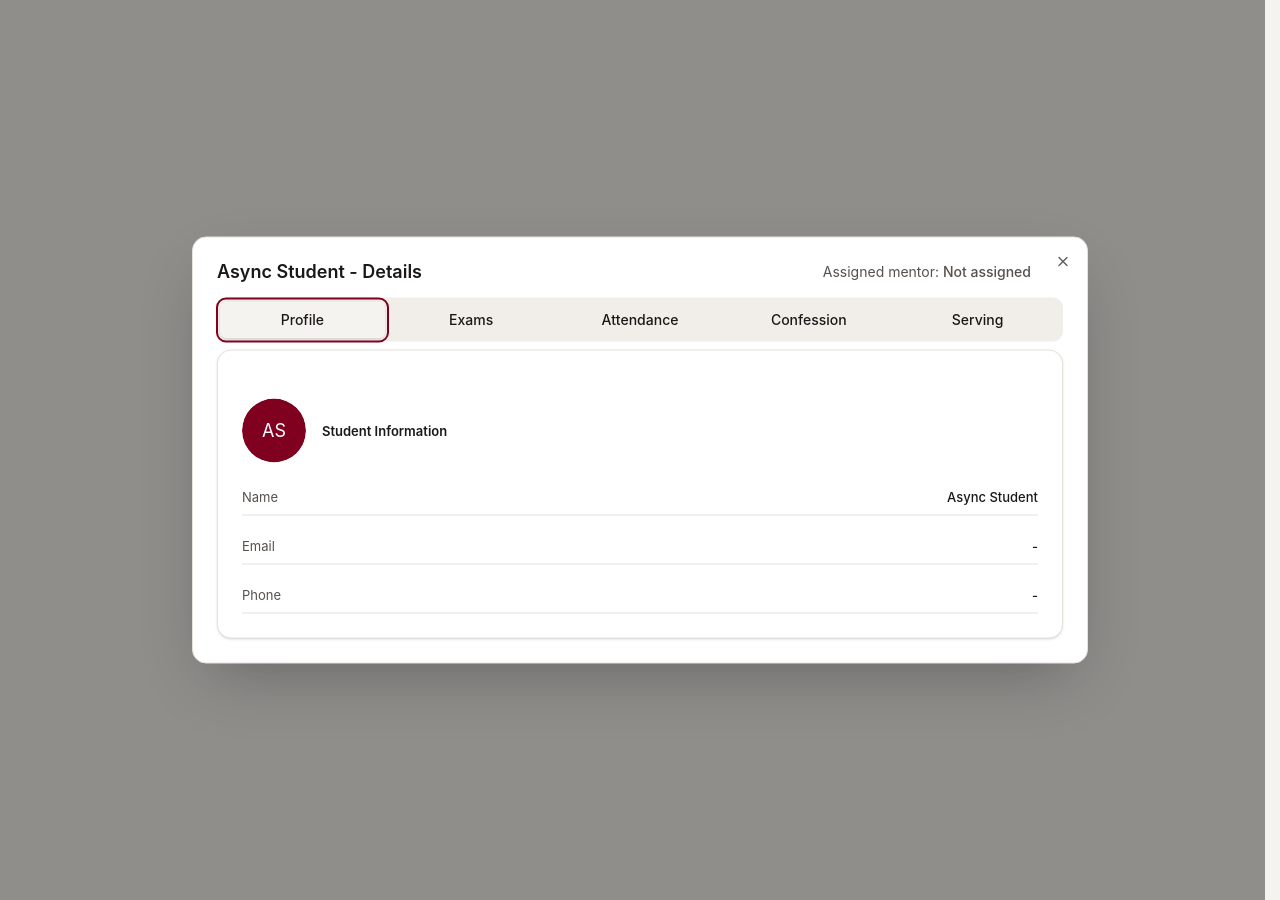
Test: Async student admin attendance tab › explains the rotation exemption instead of showing stale absences or a lesson rate
The width and height of the screenshot is (1280, 900).
Click the tab "Attendance": (640, 320) [558,301,722,338]
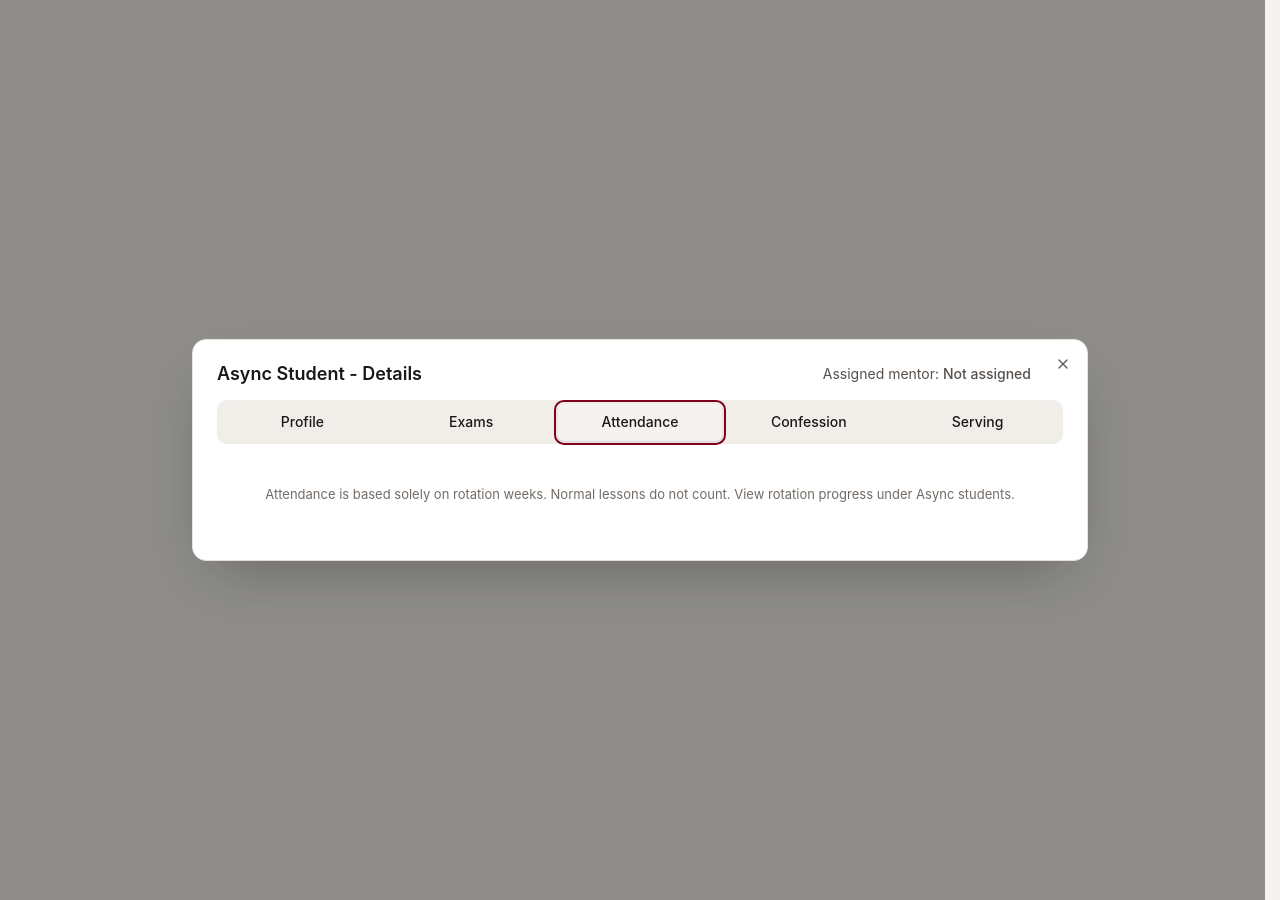
Check: the text "Attendance is based solely on rotation weeks" is shown, box [265,486,1015,502]
